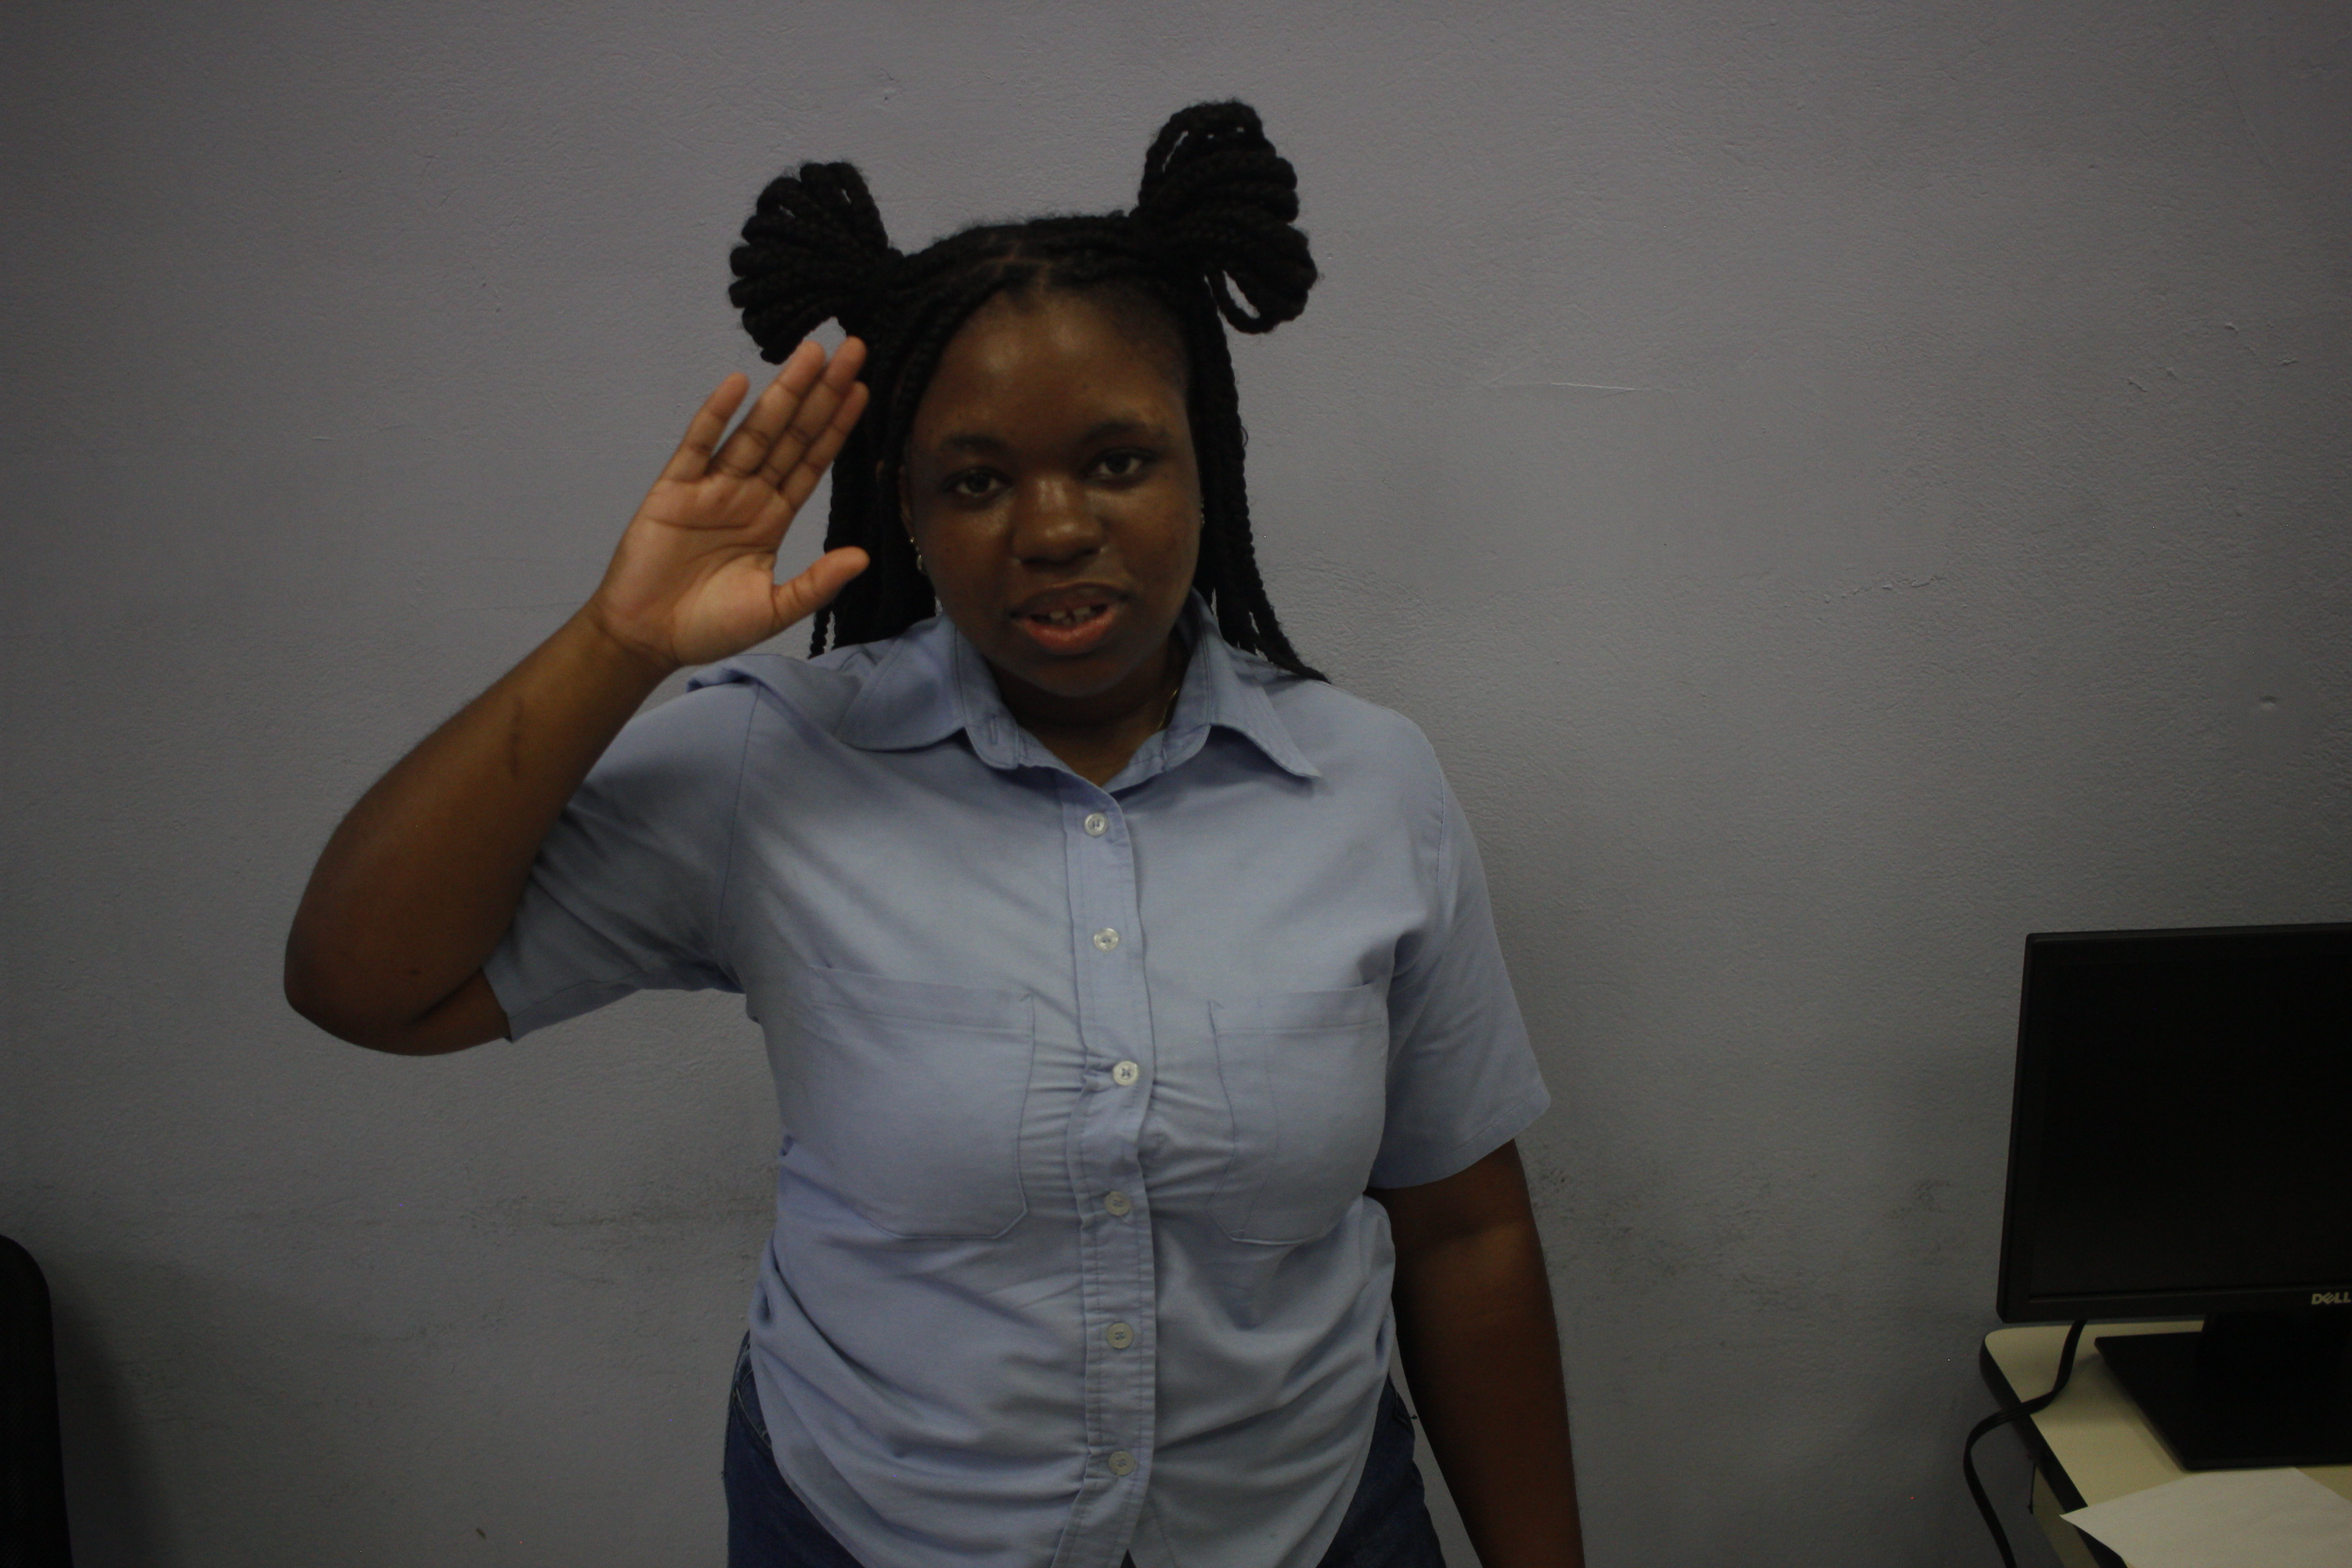hi: (593, 327, 878, 670)
